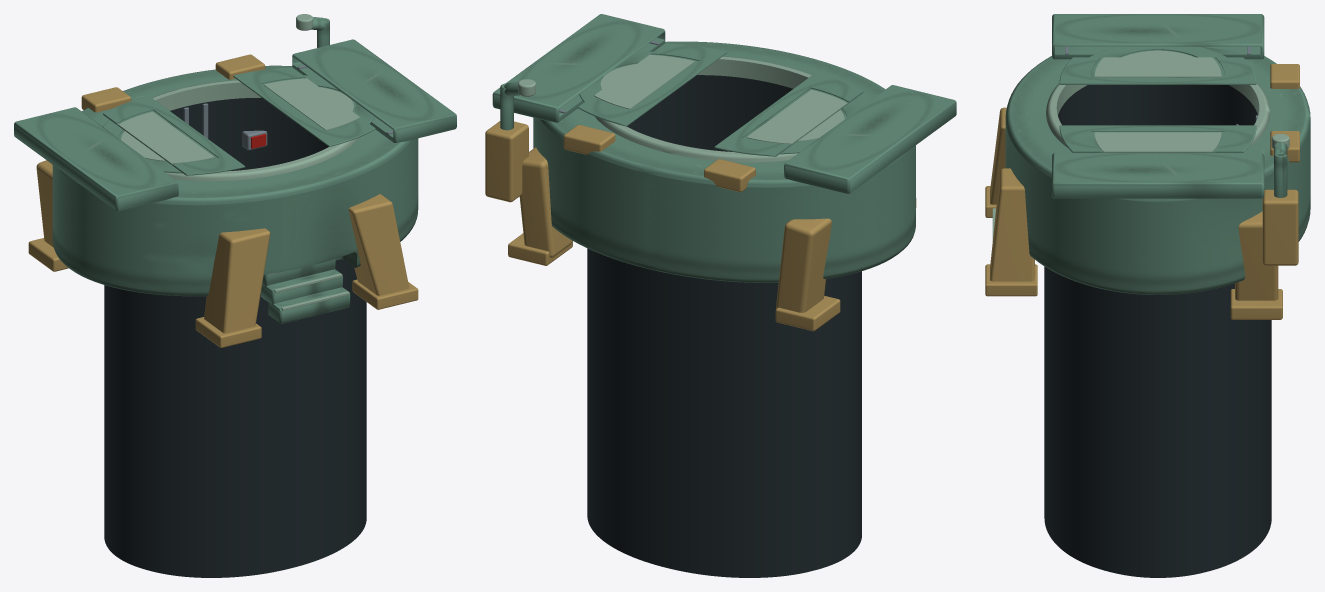
Rendered from descriptor-07.glb.
3 views of the same model, side by side, from view 1: azimuth 30°, elevation 25°; view 2: azimuth 150°, elevation 25°; view 3: azimuth 270°, elevation 25° (orthographic). The views are drawn at different scales.
Parts seen in each view (by area): view 1: RI10 shaft wall below ground, RI10 fixed oval body, RI10 enclosed side cover cassette, RI10 enclosed side cover cassette.001, RI10 front splayed brass buttress, RI10 front splayed brass buttress.001, RI10 green aperture coaming, RI10 left cover shell inner segment, RI10 right cover shell inner segment, RI10 recessed green cover field inner segment, RI10 recessed green cover field inner segment.001, RI10 front access step 0 (+8 smaller); view 2: RI10 shaft wall below ground, RI10 fixed oval body, RI10 enclosed side cover cassette, RI10 enclosed side cover cassette.001, RI10 rear brass load-bearing buttress, RI10 green aperture coaming, RI10 rear brass load-bearing buttress.001, RI10 left cover shell inner segment, RI10 right equipment mast foundation, RI10 right cover shell inner segment, RI10 recessed green cover field inner segment, RI10 recessed green cover field inner segment.001 (+4 smaller); view 3: RI10 shaft wall below ground, RI10 fixed oval body, RI10 enclosed side cover cassette.001, RI10 enclosed side cover cassette, RI10 front splayed brass buttress.001, RI10 right cover shell inner segment, RI10 left cover shell inner segment, RI10 right equipment mast foundation, RI10 recessed green cover field inner segment, RI10 recessed green cover field inner segment.001, RI10 rear brass load-bearing buttress.001, RI10 green aperture coaming (+7 smaller).
Part boxes in pixels (<box>): RI10 shaft wall below ground: <box>104,97,366,577</box>; RI10 fixed oval body: <box>52,65,418,296</box>; RI10 enclosed side cover cassette: <box>14,107,178,211</box>; RI10 enclosed side cover cassette.001: <box>292,39,456,142</box>; RI10 front splayed brass buttress: <box>204,228,270,333</box>; RI10 front splayed brass buttress.001: <box>348,194,409,295</box>; RI10 green aperture coaming: <box>152,80,359,181</box>; RI10 left cover shell inner segment: <box>103,96,245,175</box>; RI10 right cover shell inner segment: <box>233,67,375,146</box>; RI10 recessed green cover field inner segment: <box>118,111,214,163</box>; RI10 recessed green cover field inner segment.001: <box>264,78,360,130</box>; RI10 front access step 0: <box>268,287,350,323</box>; RI10 shaft wall below ground: <box>587,75,861,577</box>; RI10 fixed oval body: <box>533,41,915,282</box>; RI10 enclosed side cover cassette: <box>784,85,956,193</box>; RI10 enclosed side cover cassette.001: <box>492,14,665,122</box>; RI10 rear brass load-bearing buttress: <box>776,218,831,312</box>; RI10 green aperture coaming: <box>595,56,811,162</box>; RI10 rear brass load-bearing buttress.001: <box>519,147,572,257</box>; RI10 left cover shell inner segment: <box>714,73,863,156</box>; RI10 right equipment mast foundation: <box>485,121,528,202</box>; RI10 right cover shell inner segment: <box>578,43,727,126</box>; RI10 recessed green cover field inner segment: <box>746,89,847,144</box>; RI10 recessed green cover field inner segment.001: <box>594,55,694,109</box>; RI10 shaft wall below ground: <box>1044,85,1271,577</box>; RI10 fixed oval body: <box>1005,56,1310,294</box>; RI10 enclosed side cover cassette.001: <box>1052,153,1264,198</box>; RI10 enclosed side cover cassette: <box>1052,14,1264,59</box>; RI10 front splayed brass buttress.001: <box>990,168,1034,281</box>; RI10 right cover shell inner segment: <box>1059,125,1256,152</box>; RI10 left cover shell inner segment: <box>1059,57,1256,84</box>; RI10 right equipment mast foundation: <box>1262,189,1298,265</box>; RI10 recessed green cover field inner segment: <box>1094,57,1221,77</box>; RI10 recessed green cover field inner segment.001: <box>1094,132,1221,152</box>; RI10 rear brass load-bearing buttress.001: <box>1235,211,1278,300</box>; RI10 green aperture coaming: <box>1046,83,1270,147</box>.
Size of the model in its own units: 2.7 by 3.31 by 2.17.
7 materials, 2 textured.
